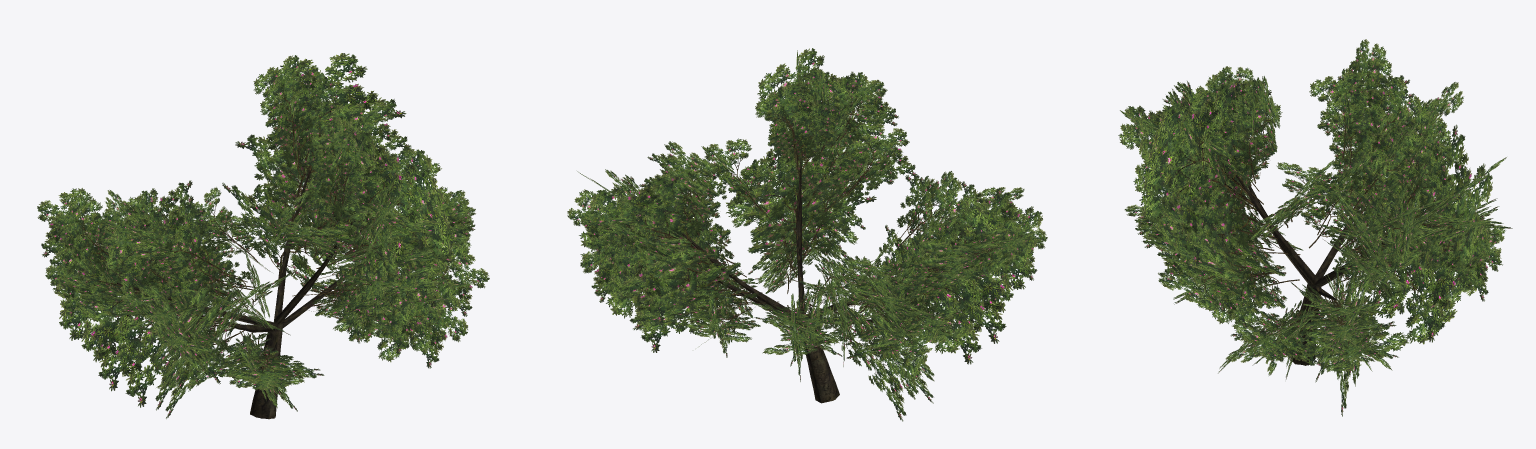
The model's file is far.glb.
3 renders of one model, left to right at view 1: azimuth 30°, elevation 25°; view 2: azimuth 150°, elevation 25°; view 3: azimuth 270°, elevation 25°, orthographic. The views are drawn at different scales.
Visible parts, largest first — view 1: lod1, lod2; view 2: lod1, lod2; view 3: lod1, lod2.
Part boxes in pixels (box(x1,y1,x2,y2)): lod1: box(37, 55, 489, 419); lod2: box(45, 53, 471, 418); lod1: box(567, 68, 1047, 403); lod2: box(577, 48, 1042, 421); lod1: box(1118, 39, 1512, 379); lod2: box(1139, 79, 1506, 416).
Size of the model in its own units: 15.83 by 11.13 by 12.7.
Materials: 2 (2 with a texture image).
